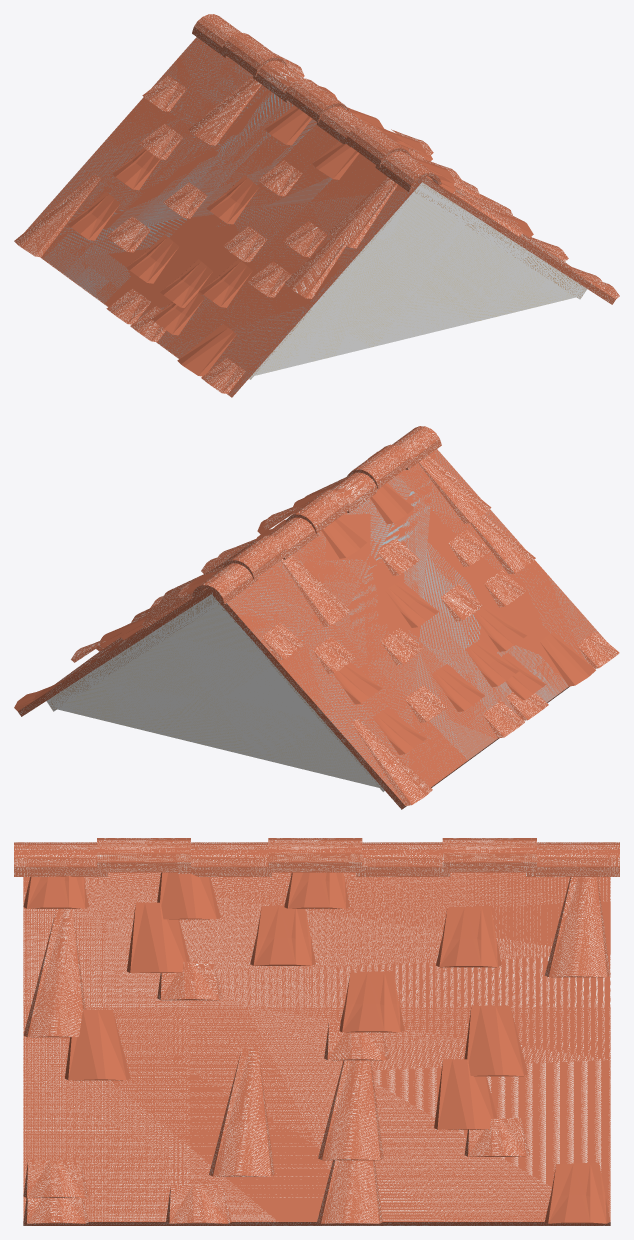
File: Roof.fbx
3 renders of one model, top to bottom at view 1: azimuth 30°, elevation 25°; view 2: azimuth 150°, elevation 25°; view 3: azimuth 270°, elevation 25°, orthographic. The views are drawn at different scales.
Parts seen in each view (by area): view 1: Group1, Roof3_4, Roof3_2, Roof3_1, Roof3_3, Roof4_3, Konek6, Konek7, Konek5, Konek1, Roof2_2, Roof2_13 (+22 smaller); view 2: Group1, Roof3_4, Roof3_1, Roof3_2, Roof3_3, Roof4_3, Konek6, Konek5, Konek7, Konek3, Roof2_2, Roof2_4 (+21 smaller); view 3: Group1, Roof3_9, Roof3_5, Roof3_7, Roof3_8, Roof4_8, Roof4_6, Roof3_6, Roof4_7, Roof4_5, Roof2_12, Roof2_8 (+18 smaller).
Part boxes in pixels (left/top/right/bottom): Group1: left=25, top=37, right=615, bottom=397; Roof3_4: left=14, top=174, right=100, bottom=257; Roof3_2: left=329, top=177, right=397, bottom=248; Roof3_1: left=188, top=76, right=261, bottom=145; Roof3_3: left=284, top=236, right=346, bottom=298; Roof4_3: left=177, top=324, right=236, bottom=376; Konek6: left=284, top=78, right=349, bottom=122; Konek7: left=345, top=123, right=410, bottom=167; Konek5: left=221, top=33, right=286, bottom=76; Konek1: left=375, top=151, right=441, bottom=192; Roof2_2: left=199, top=258, right=252, bottom=307; Roof2_13: left=206, top=175, right=259, bottom=224; Group1: left=18, top=449, right=605, bottom=809; Roof3_4: left=352, top=719, right=432, bottom=805; Roof3_1: left=280, top=555, right=350, bottom=626; Roof3_2: left=418, top=455, right=491, bottom=523; Roof3_3: left=470, top=515, right=535, bottom=574; Roof4_3: left=540, top=631, right=595, bottom=686; Konek6: left=285, top=489, right=350, bottom=533; Konek5: left=223, top=535, right=287, bottom=579; Konek7: left=347, top=444, right=411, bottom=488; Konek3: left=192, top=563, right=258, bottom=604; Roof2_2: left=473, top=603, right=526, bottom=651; Roof2_4: left=431, top=663, right=485, bottom=711; Group1: left=23, top=872, right=610, bottom=1225; Roof3_9: left=209, top=1048, right=274, bottom=1176; Roof3_5: left=23, top=909, right=85, bottom=1037; Roof3_7: left=318, top=1060, right=383, bottom=1160; Roof3_8: left=544, top=877, right=610, bottom=977; Roof4_8: left=464, top=1005, right=527, bottom=1076; Roof4_6: left=65, top=1010, right=130, bottom=1080; Roof3_6: left=317, top=1160, right=382, bottom=1223; Roof4_7: left=434, top=1059, right=497, bottom=1129; Roof4_5: left=127, top=902, right=189, bottom=972; Roof2_12: left=436, top=906, right=501, bottom=967; Roof2_8: left=339, top=971, right=404, bottom=1032.
Bounding box in the file's own units: 3471 × 1501 × 3220.
